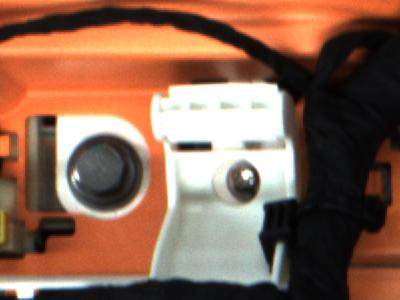nut_b: (63, 131, 147, 213)
